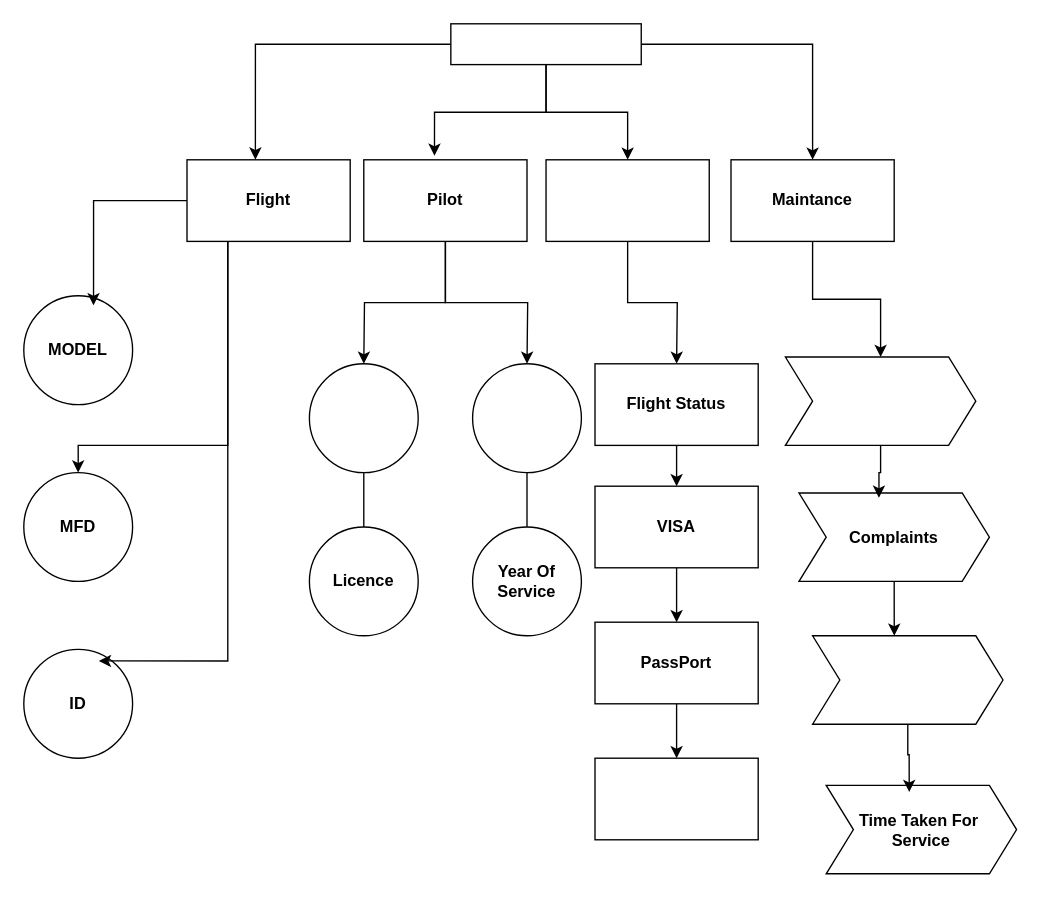
The diagram is 1040 pixels wide and 898 high, and some of its shapes have lost their labels. The shapes that lost their labels are listed below. From the top down, each one's box as (x1, y1, x2, y2) in pixels, then its label:
(449, 22, 641, 65): Airport
(545, 158, 709, 241): Security Screening
(308, 362, 418, 473): Name
(471, 362, 581, 473): Health
(784, 356, 976, 445): Type of Maintance
(811, 634, 1003, 724): Performed By
(594, 757, 758, 840): Ticket
